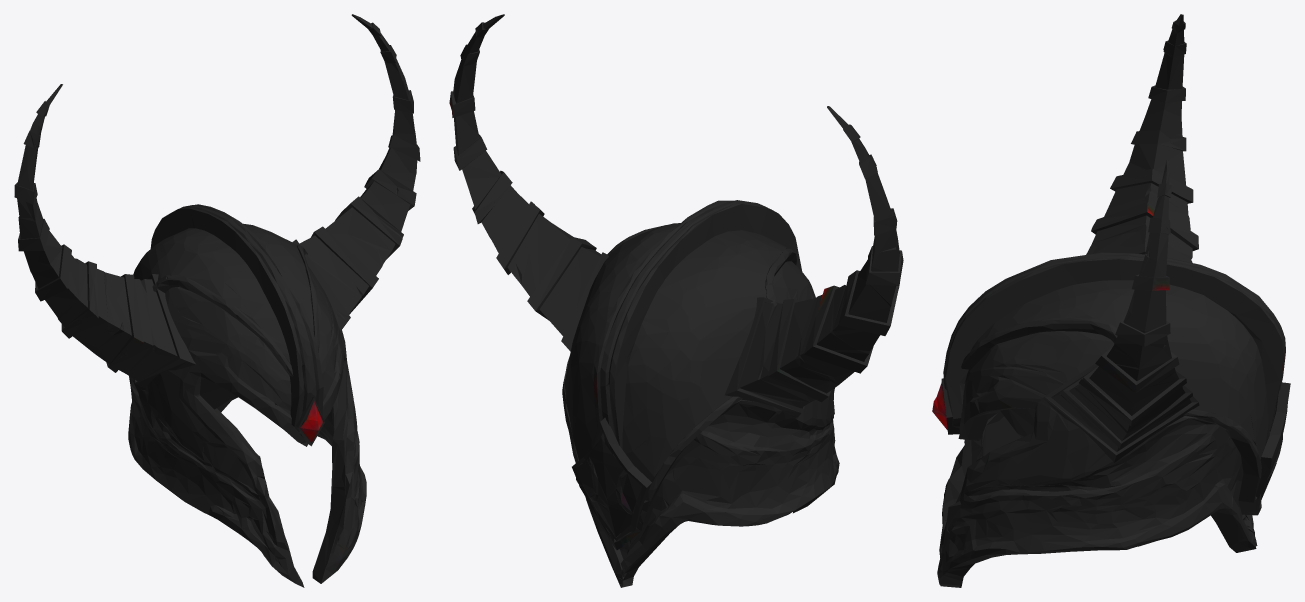
File: mhw_culturalibre_warrior_helmet_02.glb
3 renders of one model, left to right at view 1: azimuth 30°, elevation 25°; view 2: azimuth 150°, elevation 25°; view 3: azimuth 270°, elevation 25°, orthographic. The views are drawn at different scales.
Parts seen in each view (by area): view 1: mhw_culturalibre_warrior_helmet_02; view 2: mhw_culturalibre_warrior_helmet_02; view 3: mhw_culturalibre_warrior_helmet_02.
Boxes of the visible parts, box(x1,y1,x2,y2) form: mhw_culturalibre_warrior_helmet_02: box(14, 14, 420, 587); mhw_culturalibre_warrior_helmet_02: box(449, 14, 903, 587); mhw_culturalibre_warrior_helmet_02: box(932, 14, 1290, 587).
Size of the model in its own units: 0.4082 by 0.4591 by 0.2985.
Materials: 1 (1 with a texture image).
